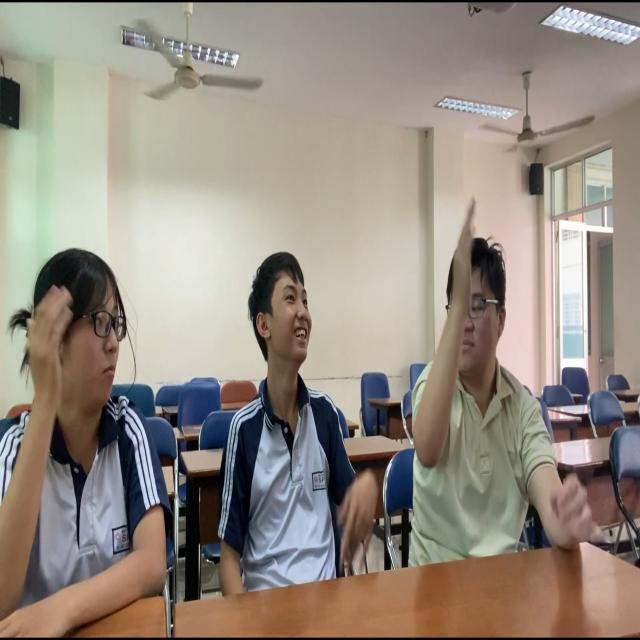raise_hand: (1, 254, 169, 640), (410, 192, 576, 580)
